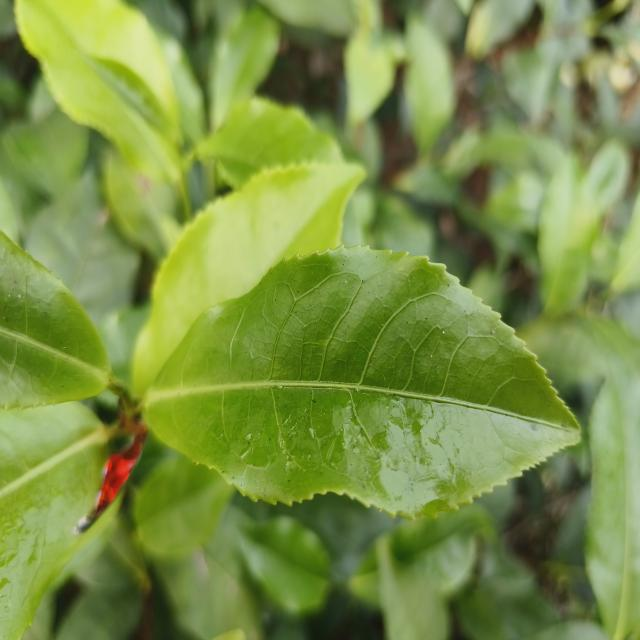Leaf: (145, 247, 579, 516), (133, 162, 364, 392), (14, 0, 183, 183), (0, 402, 111, 640), (0, 232, 111, 408), (26, 169, 140, 326), (586, 346, 640, 640), (195, 97, 343, 188), (381, 505, 493, 596), (134, 456, 234, 557), (538, 155, 594, 311), (240, 516, 329, 614), (210, 7, 280, 129), (376, 537, 448, 640), (404, 14, 455, 152), (7, 110, 88, 194), (345, 29, 395, 124), (584, 140, 629, 215), (349, 543, 380, 607)
